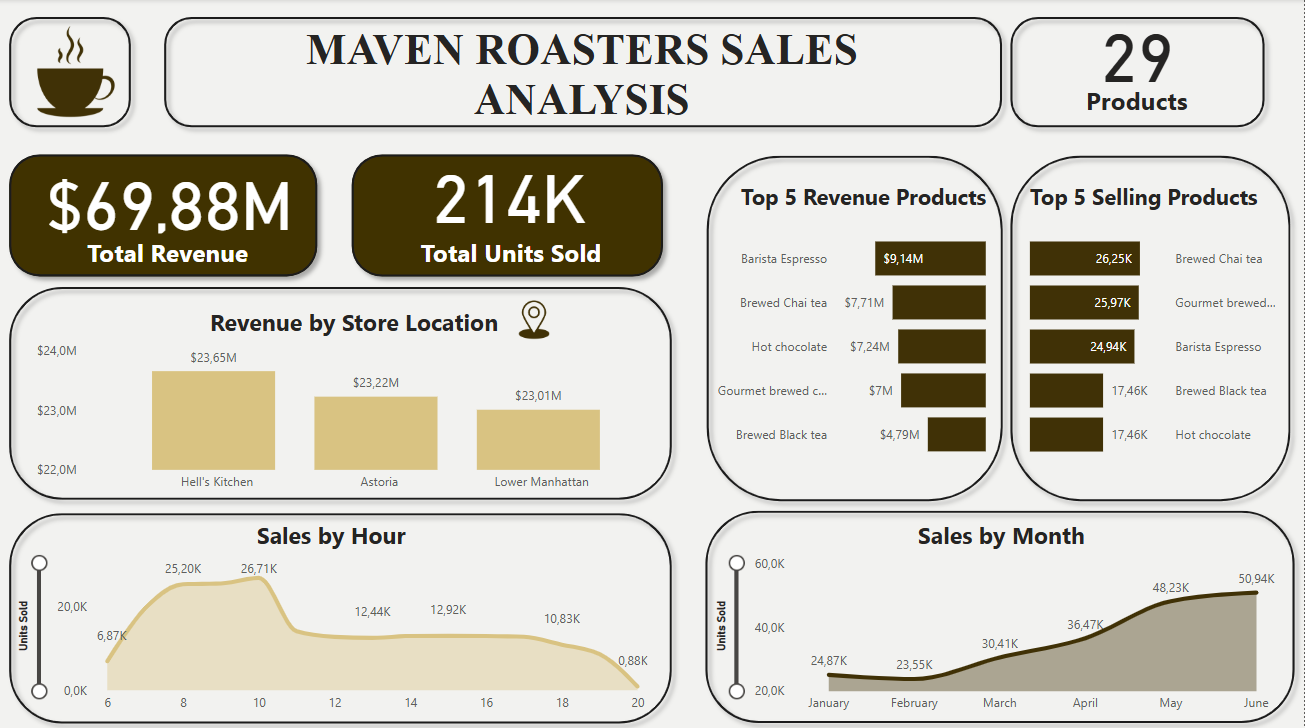

The dashboard page shown, as its layout file describes it:
{"tool":"powerbi","page":{"name":"Sales Analysis","canvas":[1280,720],"ordinal":0},"visuals":[{"type":"shape","box":[684.3,144.3,308.6,357.1],"z":0},{"type":"image","box":[14.7,19.3,118,103.3],"z":1000},{"type":"shape","box":[0,8.6,137.4,126.4],"z":2000},{"type":"image","box":[499,289.3,48.8,50.4],"z":3000},{"type":"shape","box":[982.9,144.3,292.9,357.1],"z":4000},{"type":"shape","box":[683.6,493.6,596.4,226.4],"z":5000},{"type":"shape","box":[0,495.6,668.3,224.4],"z":6000},{"type":"shape","box":[152.1,8.6,840.5,126.4],"z":7000},{"type":"textbox","box":[186.5,19.6,769.3,109.2],"z":8000},{"type":"shape","box":[0,143.4,320.5,137.7],"z":9000},{"type":"shape","box":[336.4,143.2,323.6,137.9],"z":10000,"group":"g1"},{"type":"card","fields":{"Values":["Sum(total_sales_revenue.total_revenue)"]},"box":[6.9,152.8,318.1,81.9],"z":10000},{"type":"textbox","box":[73.6,227.8,181.9,45.8],"z":11000},{"type":"card","fields":{"Values":["Sum(total_sales_revenue.total_units_sold)"]},"box":[341.6,145.8,318.1,81.9],"z":12000,"group":"g1"},{"type":"shape","box":[982.8,8.6,267.5,126.4],"z":12000},{"type":"card","fields":{"Values":["Sum(unique_products.unique_products)"]},"box":[1062.6,8.6,108,81],"z":13000},{"type":"textbox","box":[402.7,227.8,198.6,45.8],"z":13000,"group":"g1"},{"type":"textbox","box":[1016,78.5,200,44.2],"z":14000},{"type":"shape","box":[0,273.7,668.4,226.8],"z":15000},{"type":"columnChart","title":"Revenue by Store Location","fields":{"Category":["revenue_by_store.store_location"],"Y":["Sum(revenue_by_store.total_revenue)"]},"box":[30.9,300.7,633.9,191.8],"z":16000},{"type":"lineChart","title":"Sales by Hour","fields":{"Category":["sales_by_hour.hour"],"Y":["Sum(sales_by_hour.total_sales)"]},"box":[9.8,510.3,630.6,198.3],"z":17000},{"type":"lineChart","title":"Sales by Month","fields":{"Y":["Sum(sales_by_month.total_sales)"],"Category":["sales_by_month.month"]},"box":[694,510.3,577,198.3],"z":18000},{"type":"barChart","title":"Top 5 Selling Products","fields":{"Category":["top_selling_products.product_type"],"Y":["Sum(top_selling_products.total_units_sold)"]},"box":[1006.2,178.8,263.8,288.8],"z":19000},{"type":"barChart","title":"Top 5 Revenue Products","fields":{"Category":["top_revenue_products.product_type"],"Y":["Sum(top_revenue_products.total_revenue)"]},"box":[687.1,178.6,285.7,288.6],"z":20000},{"type":"group","id":"g1","title":"Group 1","box":[336.4,143.2,323.6,137.9],"z":21000}]}

Visuals, with their boxes in screenshot pixels (x1, y1, x2, y2), scaled from the page's 1280x720 canvas onto the 1305x728 screenshot:
shape: left=698, top=146, right=1012, bottom=507
image: left=15, top=20, right=135, bottom=124
shape: left=0, top=9, right=140, bottom=136
image: left=509, top=293, right=558, bottom=343
shape: left=1002, top=146, right=1301, bottom=507
shape: left=697, top=499, right=1304, bottom=727
shape: left=0, top=501, right=681, bottom=727
shape: left=155, top=9, right=1012, bottom=136
textbox: left=190, top=20, right=974, bottom=130
shape: left=0, top=145, right=327, bottom=284
shape: left=343, top=145, right=673, bottom=284
card - Sum(total_sales_revenue.total_revenue): left=7, top=154, right=331, bottom=237
textbox: left=75, top=230, right=260, bottom=277
card - Sum(total_sales_revenue.total_units_sold): left=348, top=147, right=673, bottom=230
shape: left=1002, top=9, right=1275, bottom=136
card - Sum(unique_products.unique_products): left=1083, top=9, right=1193, bottom=91
textbox: left=411, top=230, right=613, bottom=277
textbox: left=1036, top=79, right=1240, bottom=124
shape: left=0, top=277, right=681, bottom=506
"Revenue by Store Location" columnChart: left=32, top=304, right=678, bottom=498
"Sales by Hour" lineChart: left=10, top=516, right=653, bottom=716
"Sales by Month" lineChart: left=708, top=516, right=1296, bottom=716
"Top 5 Selling Products" barChart: left=1026, top=181, right=1295, bottom=473
"Top 5 Revenue Products" barChart: left=701, top=181, right=992, bottom=472
"Group 1" group: left=343, top=145, right=673, bottom=284
